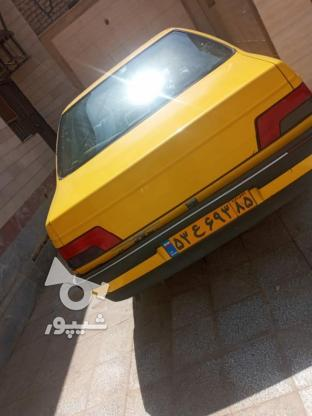car: (164, 187, 257, 256)
